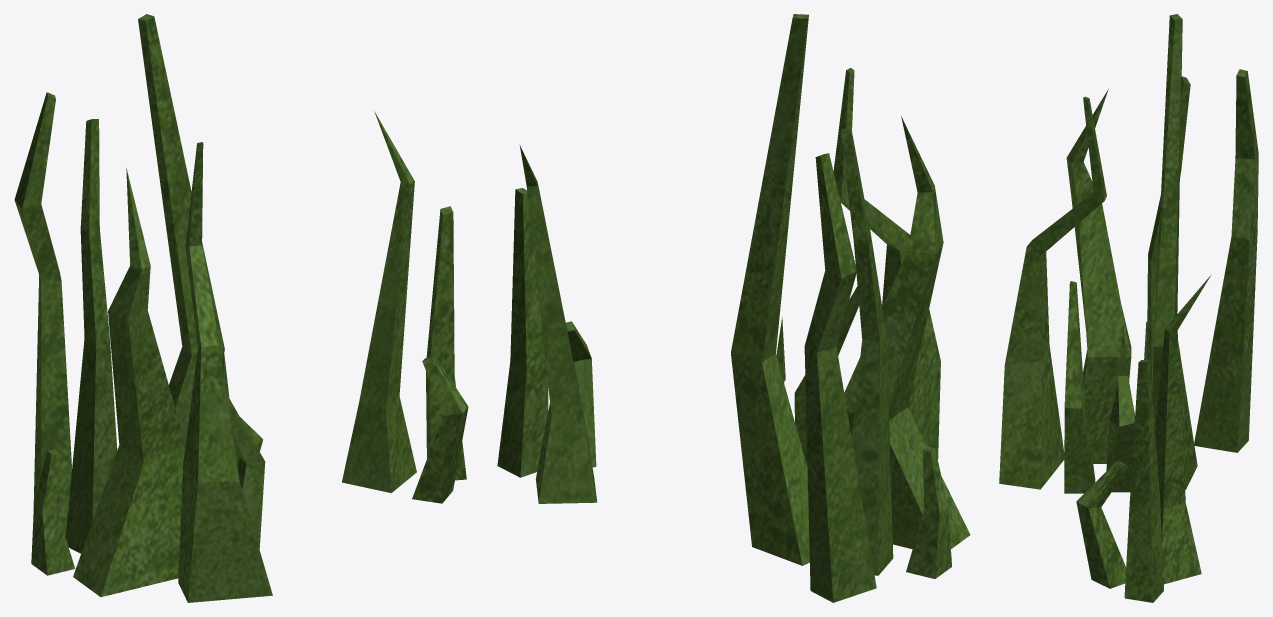
Rendered from erba_3.fbx.
The picture shows the model from 3 angles, left to right: view 1: azimuth 30°, elevation 25°; view 2: azimuth 150°, elevation 25°; view 3: azimuth 270°, elevation 25°; orthographic projection. The views are drawn at different scales.
Visible parts, largest first — view 1: erba_3; view 2: erba_3; view 3: erba_3.
Boxes of the visible parts, x1,y1,x2,y2 form: erba_3: (14,14,468,602); erba_3: (497,14,970,602); erba_3: (999,14,1258,602).
Bounding box in the file's own units: 19.52 × 22.49 × 11.64.
